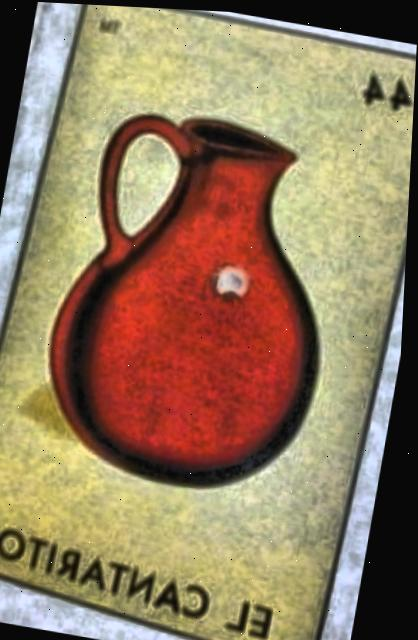El Cantarito: (0, 4, 416, 640)
